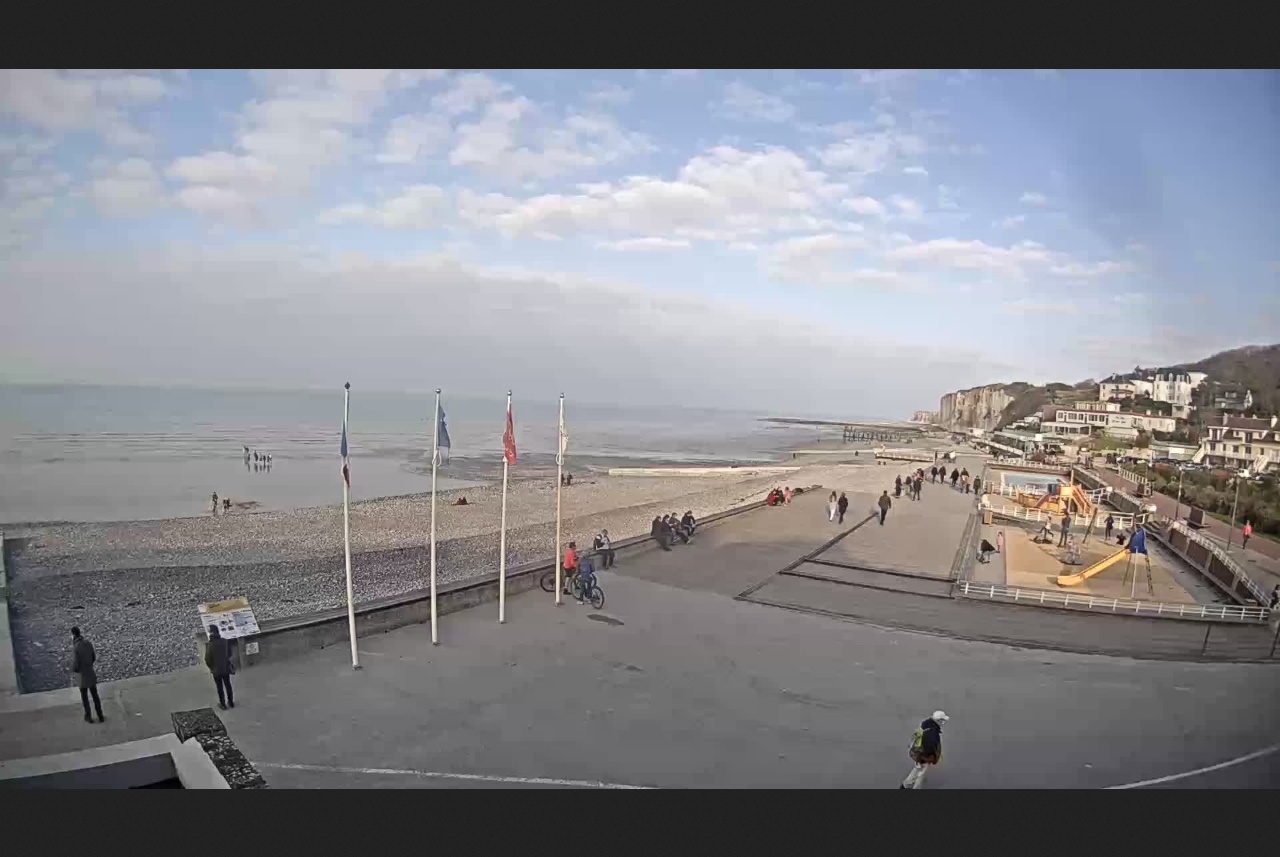no: (428, 398, 453, 453), (501, 405, 518, 465), (556, 399, 570, 465), (339, 428, 352, 488)
